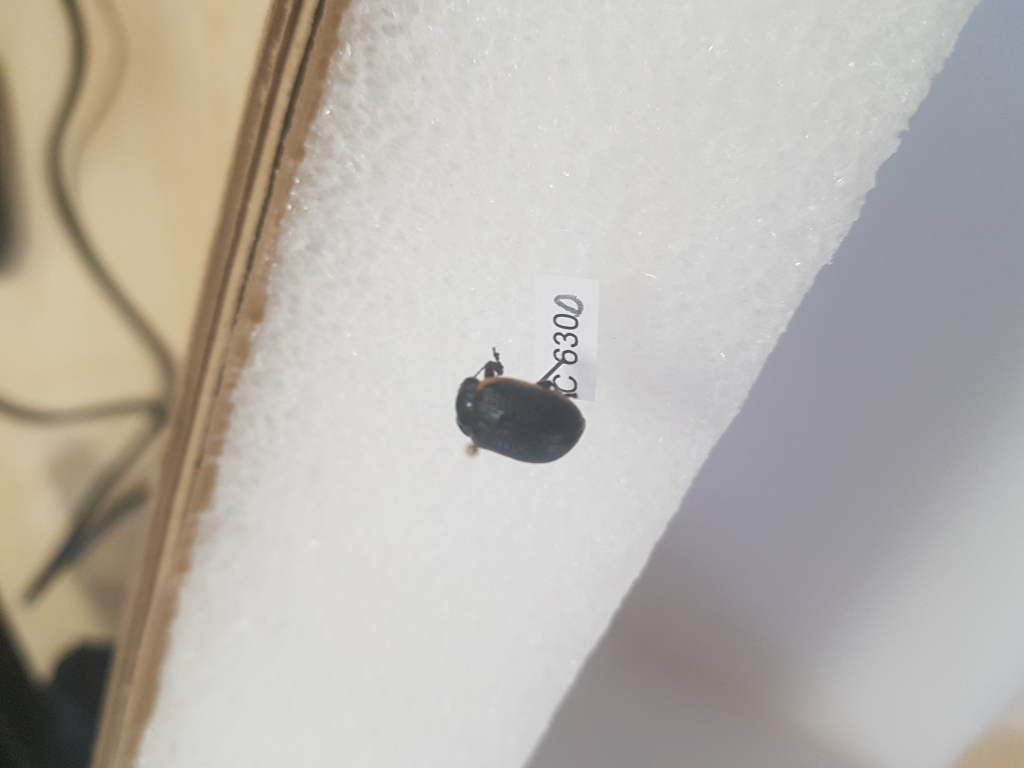Chrysolina_gypsophila: (455, 346, 588, 465)
